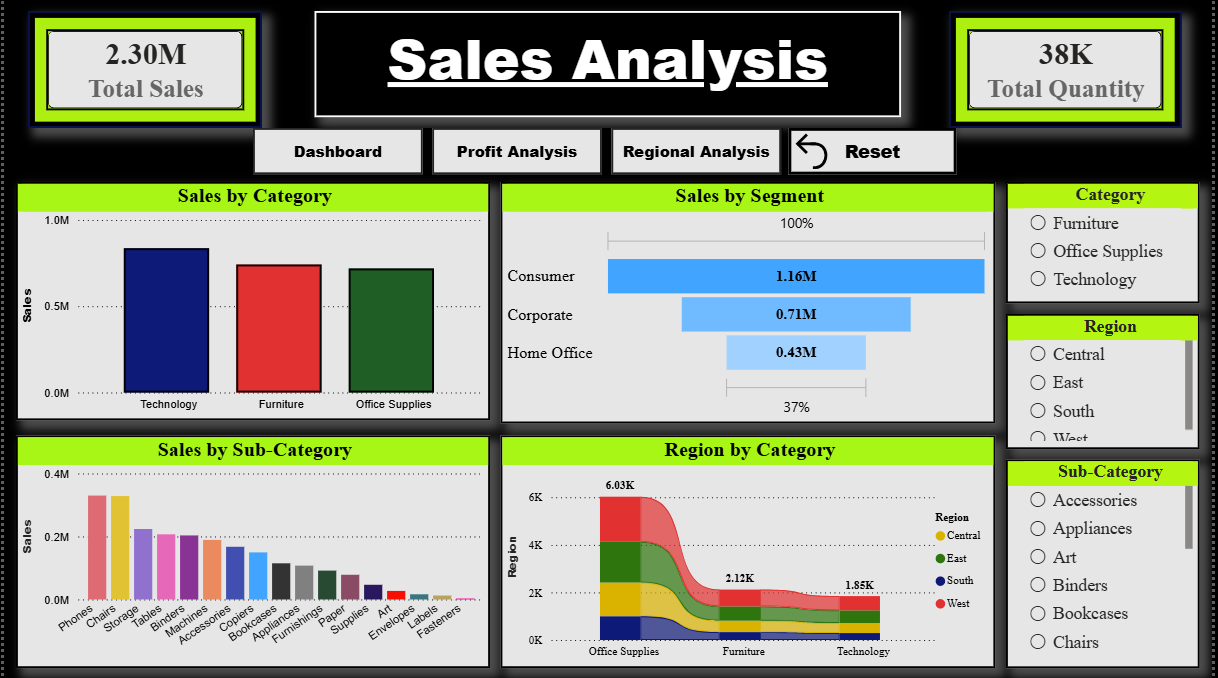

This screenshot's page, from the dashboard's own definition file:
{"tool":"powerbi","page":{"name":"Sales Analysis","canvas":[1280,720],"ordinal":1},"visuals":[{"type":"cardVisual","fields":{"Data":["SampleSuperstore.Total Sales"]},"box":[25.4,12.7,248.1,124.1],"z":0},{"type":"cardVisual","fields":{"Data":["SampleSuperstore.Total Quantity"]},"box":[1002.1,12.7,246.5,124.1],"z":1000},{"type":"textbox","box":[329.3,12.7,621.9,112.9],"z":2000},{"type":"clusteredColumnChart","title":"Sales by Category","fields":{"Category":["SampleSuperstore.Category"],"Y":["Sum(SampleSuperstore.Sales)"]},"box":[12.7,194.1,502.6,252.9],"z":3000},{"type":"columnChart","title":"Sales by Sub-Category","fields":{"Category":["SampleSuperstore.Sub-Category"],"Y":["Sum(SampleSuperstore.Sales)"]},"box":[12.7,462.9,502.6,246.5],"z":4000},{"type":"funnel","title":"Sales by Segment","fields":{"Y":["Sum(SampleSuperstore.Sales)"],"Category":["SampleSuperstore.Segment"]},"box":[526.5,194.1,524.9,256.1],"z":5000},{"type":"ribbonChart","title":"Region by Category","fields":{"Category":["SampleSuperstore.Category"],"Series":["SampleSuperstore.Region"],"Y":["CountNonNull(SampleSuperstore.Region)"]},"box":[526.5,462.9,524.9,246.5],"z":6000},{"type":"listSlicer","fields":{"Values":["SampleSuperstore.Category"]},"box":[1062.5,194.1,205.2,128.8],"z":7000},{"type":"listSlicer","fields":{"Values":["SampleSuperstore.Region"]},"box":[1062.5,334,205.2,143.2],"z":8000},{"type":"listSlicer","fields":{"Values":["SampleSuperstore.Sub-Category"]},"box":[1062.5,488.3,205.2,221.1],"z":9000},{"type":"pageNavigator","box":[264,136.8,561.5,49.3],"z":10000},{"type":"actionButton","title":"Reset","box":[832,136.8,178.1,49.3],"z":11000}]}

Visuals, with their boxes in screenshot pixels (x1, y1, x2, y2), scaled from the page's 1280x720 canvas onto the 1218x678 screenshot:
cardVisual - SampleSuperstore.Total Sales: box=[24, 12, 260, 129]
cardVisual - SampleSuperstore.Total Quantity: box=[954, 12, 1188, 129]
textbox: box=[313, 12, 905, 118]
"Sales by Category" clusteredColumnChart: box=[12, 183, 490, 421]
"Sales by Sub-Category" columnChart: box=[12, 436, 490, 668]
"Sales by Segment" funnel: box=[501, 183, 1000, 424]
"Region by Category" ribbonChart: box=[501, 436, 1000, 668]
listSlicer - SampleSuperstore.Category: box=[1011, 183, 1206, 304]
listSlicer - SampleSuperstore.Region: box=[1011, 315, 1206, 449]
listSlicer - SampleSuperstore.Sub-Category: box=[1011, 460, 1206, 668]
pageNavigator: box=[251, 129, 786, 175]
"Reset" actionButton: box=[792, 129, 961, 175]
